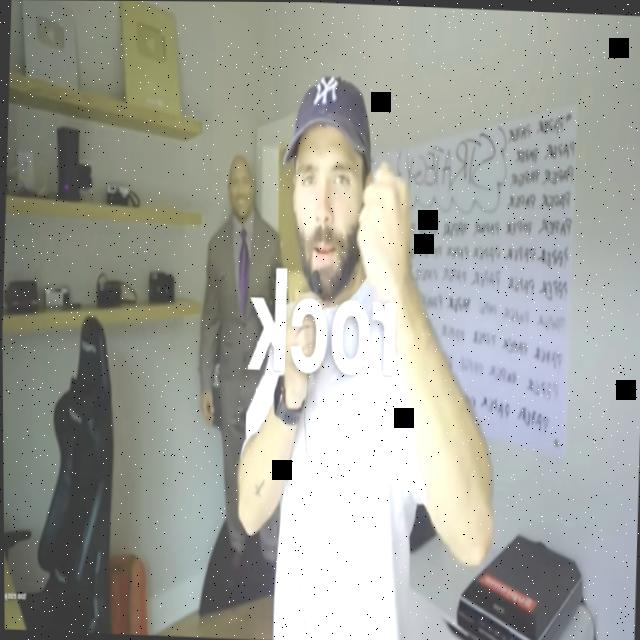Rock: (352, 159, 415, 305)
